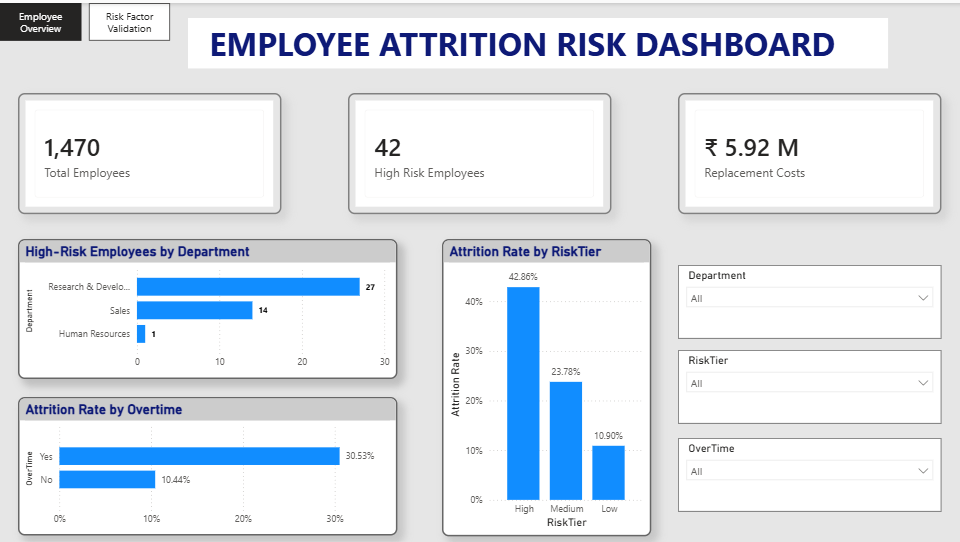

The page's visual inventory and layout, read from the dashboard file:
{"tool":"powerbi","page":{"name":"Employee Overview","canvas":[1280,720],"ordinal":0},"visuals":[{"type":"clusteredBarChart","title":"High-Risk Employees by Department","fields":{"Category":["employee_risk_final.Department"],"Y":["CountNonNull(employee_risk_final.EmployeeNumber)"]},"box":[23.4,313.8,503.7,185.8],"z":0},{"type":"cardVisual","fields":{"Data":["employee_risk_final.Total Employees"]},"box":[23.4,119.7,349.6,161],"z":1000},{"type":"cardVisual","fields":{"Data":["employee_risk_final.High Risk Employees"]},"box":[461.8,119.7,349.6,161],"z":2000},{"type":"cardVisual","fields":{"Data":["employee_risk_final.Replacement Cost Display"]},"box":[900.1,119.7,349.6,161],"z":3000},{"type":"clusteredColumnChart","title":"Attrition Rate by RiskTier","fields":{"Y":["employee_risk_final.Attrition Rate"],"Category":["employee_risk_final.RiskTier"]},"box":[587.2,313.5,277.6,394.5],"z":4000},{"type":"clusteredBarChart","title":"Attrition Rate by Overtime","fields":{"Category":["employee_risk_final.OverTime"],"Y":["employee_risk_final.Attrition Rate"]},"box":[23.4,523,503.7,184.4],"z":5000},{"type":"textbox","box":[249.1,19.3,930.4,67.4],"z":6000},{"type":"slicer","fields":{"Values":["employee_risk_final.Department"]},"box":[900.1,348.2,349.6,97.7],"z":7000},{"type":"slicer","fields":{"Values":["employee_risk_final.RiskTier"]},"box":[900.1,461.1,349.6,97.7],"z":8000},{"type":"slicer","fields":{"Values":["employee_risk_final.OverTime"]},"box":[900.1,578.1,349.6,97.7],"z":9000},{"type":"pageNavigator","box":[0,0,227.2,50.5],"z":10000}]}

Visuals, with their boxes on the page's 1280x720 design canvas (x1, y1, x2, y2). These are canvas units, not pixel positions in the 960x542 screenshot, which may show the page scaled, cropped or inside an application window:
"High-Risk Employees by Department" clusteredBarChart: rect(23, 314, 527, 500)
cardVisual - employee_risk_final.Total Employees: rect(23, 120, 373, 281)
cardVisual - employee_risk_final.High Risk Employees: rect(462, 120, 811, 281)
cardVisual - employee_risk_final.Replacement Cost Display: rect(900, 120, 1250, 281)
"Attrition Rate by RiskTier" clusteredColumnChart: rect(587, 314, 865, 708)
"Attrition Rate by Overtime" clusteredBarChart: rect(23, 523, 527, 707)
textbox: rect(249, 19, 1180, 87)
slicer - employee_risk_final.Department: rect(900, 348, 1250, 446)
slicer - employee_risk_final.RiskTier: rect(900, 461, 1250, 559)
slicer - employee_risk_final.OverTime: rect(900, 578, 1250, 676)
pageNavigator: rect(0, 0, 227, 50)
